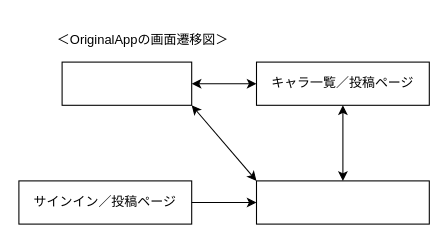
This 448x243 diagram has some shape labels left out. Here are the shapes that lost their labels. From the top down, the box of each, then its label:
(61, 61, 192, 105): ユーザー編集ページ
(255, 180, 429, 224): Topページ
